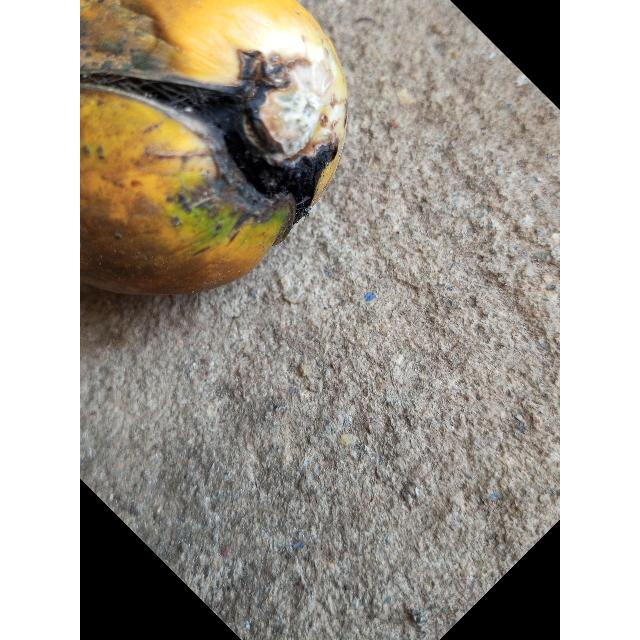damaged: (80, 0, 347, 298)
